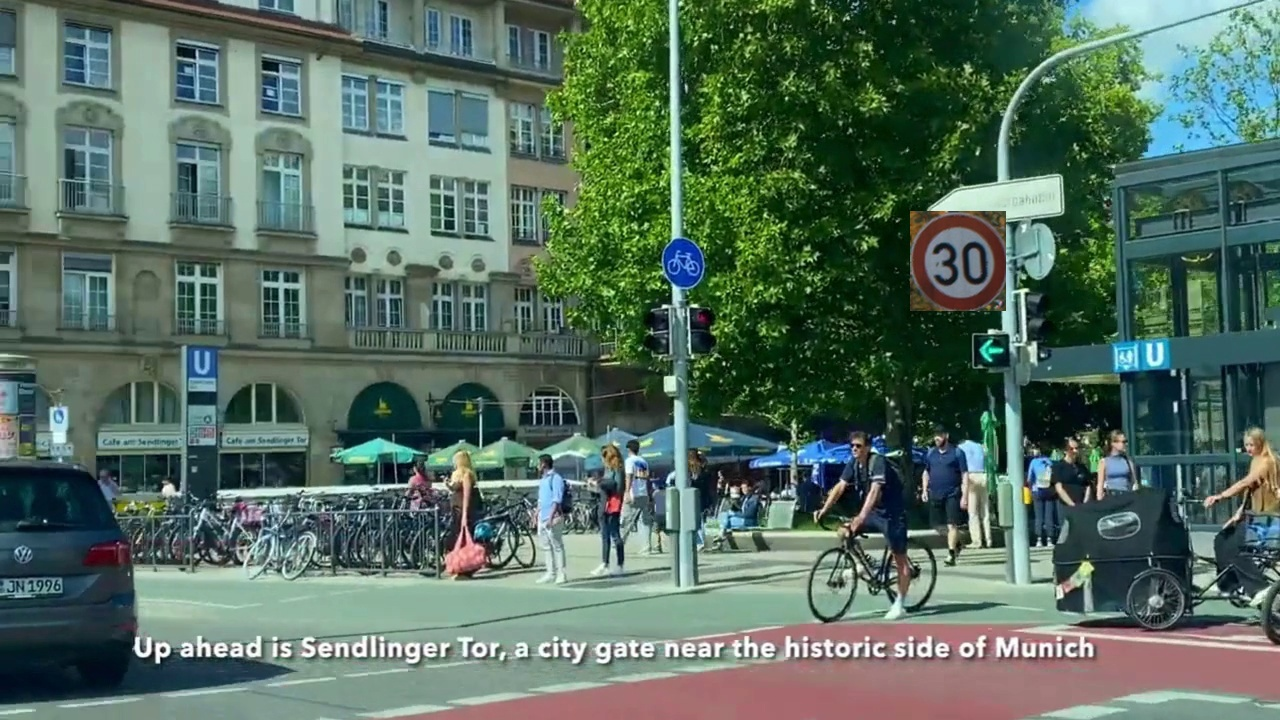Speed 30: (910, 211, 1006, 311)
